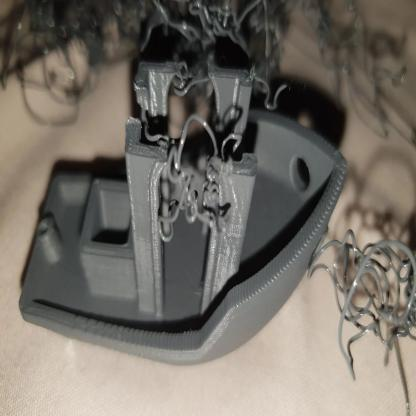fail: (324, 236, 416, 383), (164, 123, 215, 248)
